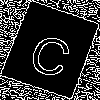C: (25, 24, 79, 80)
